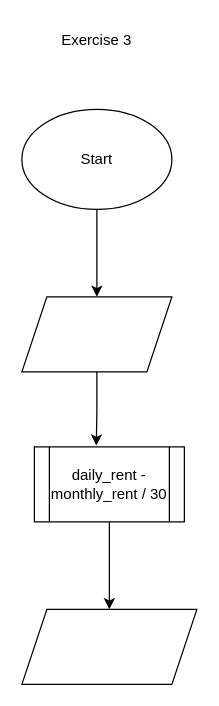
Some shapes in this 219 by 706 pixel diagram are drawn without their labels. The centre of each missing label's shape, as x and y in pixels:
DISPLAY "Daily rent cost:", daily_rent: point (109, 646)
Monthly_Rent: point (96, 334)
